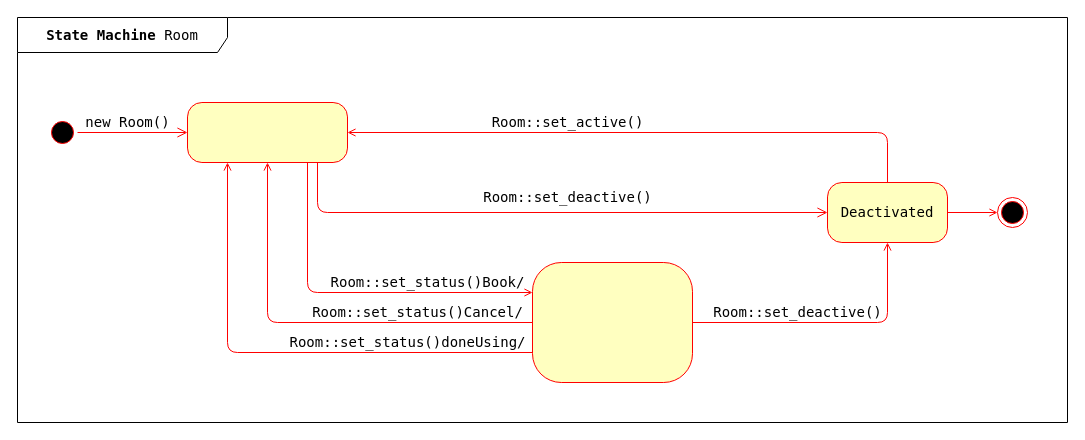
Image size: 1085x440. Some labels were removed from this diagram. The shapes that lost their labels are listed below. From the top down, each one's centre as x and y in pixels, then its label:
the point at 267,132: Available
the point at 612,322: Booked
